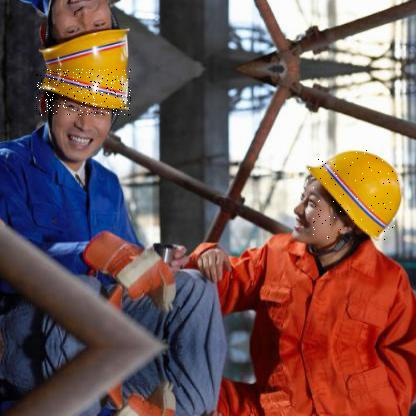safetyhelmet: (307, 150, 402, 242), (36, 69, 132, 117)
